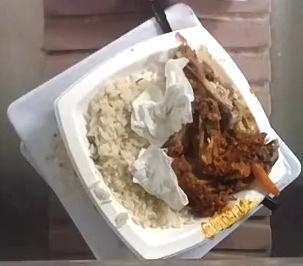carrots: (249, 163, 280, 196)
curry: (162, 31, 278, 215)
rice: (86, 75, 179, 228)
